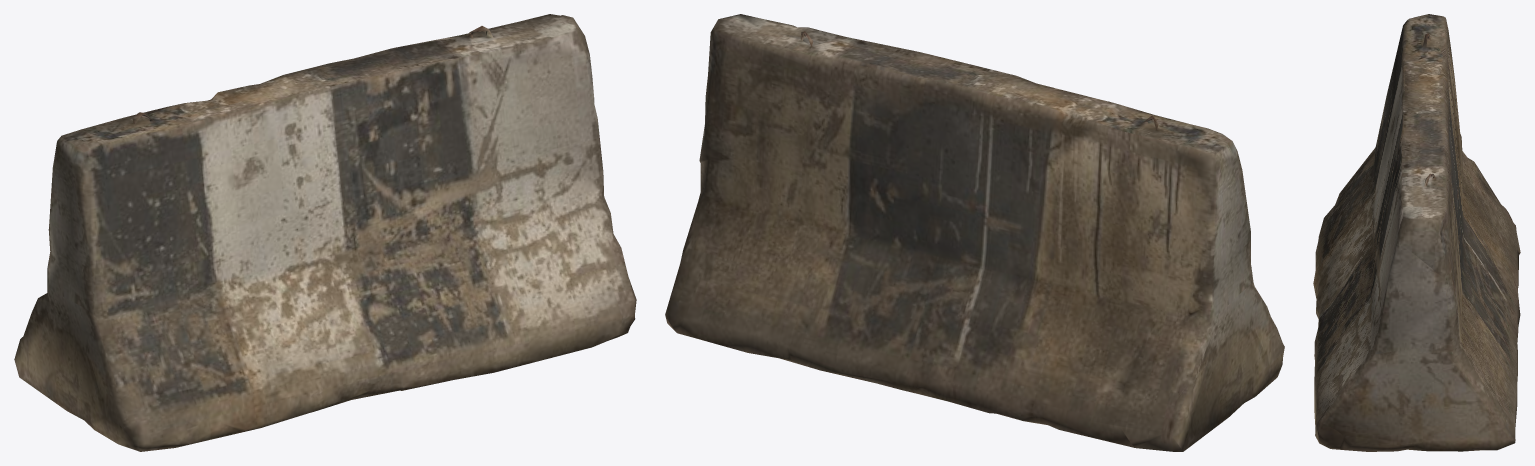
File: concrete_road_barrier.glb
3 views of the same model, side by side, from view 1: azimuth 30°, elevation 25°; view 2: azimuth 150°, elevation 25°; view 3: azimuth 270°, elevation 25° (orthographic). The views are drawn at different scales.
Parts seen in each view (by area): view 1: concrete_road_barrier; view 2: concrete_road_barrier; view 3: concrete_road_barrier.
Boxes of the visible parts, bbox=[...] form: concrete_road_barrier: bbox=[14, 14, 636, 451]; concrete_road_barrier: bbox=[665, 14, 1284, 451]; concrete_road_barrier: bbox=[1313, 14, 1520, 451].
Bounding box in the file's own units: 1.54 × 0.8304 × 0.6379.
1 material, 1 textured.
